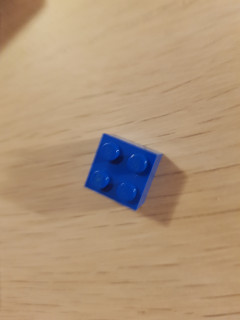2x2 blue: (80, 131, 165, 214)
